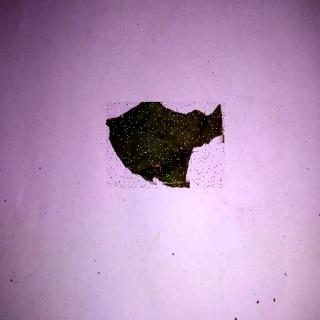Bird Eye Spot: (108, 103, 227, 189)
